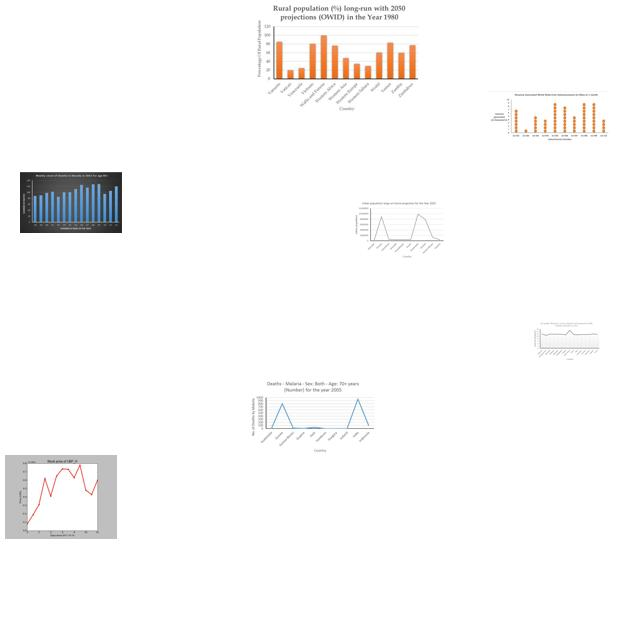Graph: (253, 2, 420, 115), (248, 379, 377, 454), (5, 455, 117, 539), (487, 91, 609, 143), (20, 172, 122, 233), (354, 200, 445, 259), (532, 321, 601, 361)
